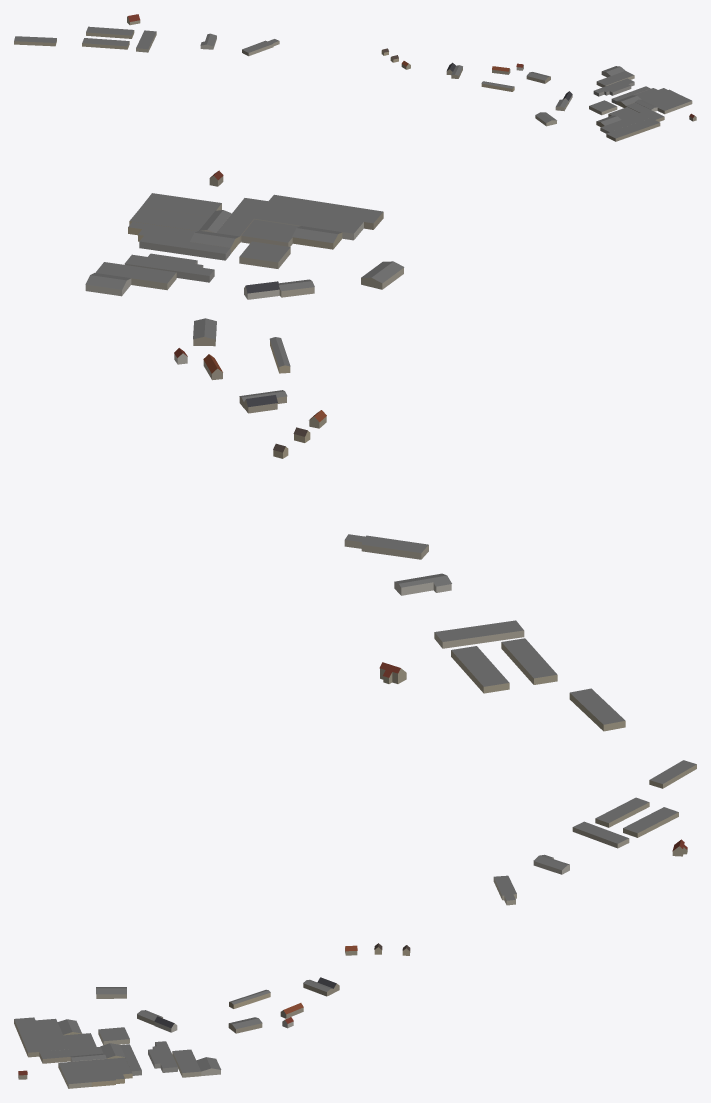
3 views of the same model, one above another, from view 1: azimuth 30°, elevation 25°; view 2: azimuth 150°, elevation 25°; view 3: azimuth 270°, elevation 25° (orthographic). The views are drawn at different scales.
Visible parts, largest first — view 1: buildings; view 2: buildings; view 3: buildings.
Part boxes in pixels (x1=…): buildings: x1=14, y1=14, x2=696, y2=141; buildings: x1=85, y1=170, x2=625, y2=731; buildings: x1=14, y1=760, x2=696, y2=1088.
Bounding box in the file's own units: 857 × 24.3 × 795.
